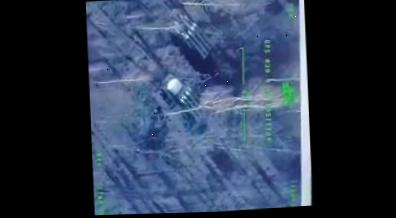rszo: (164, 6, 214, 60), (159, 71, 204, 122)
